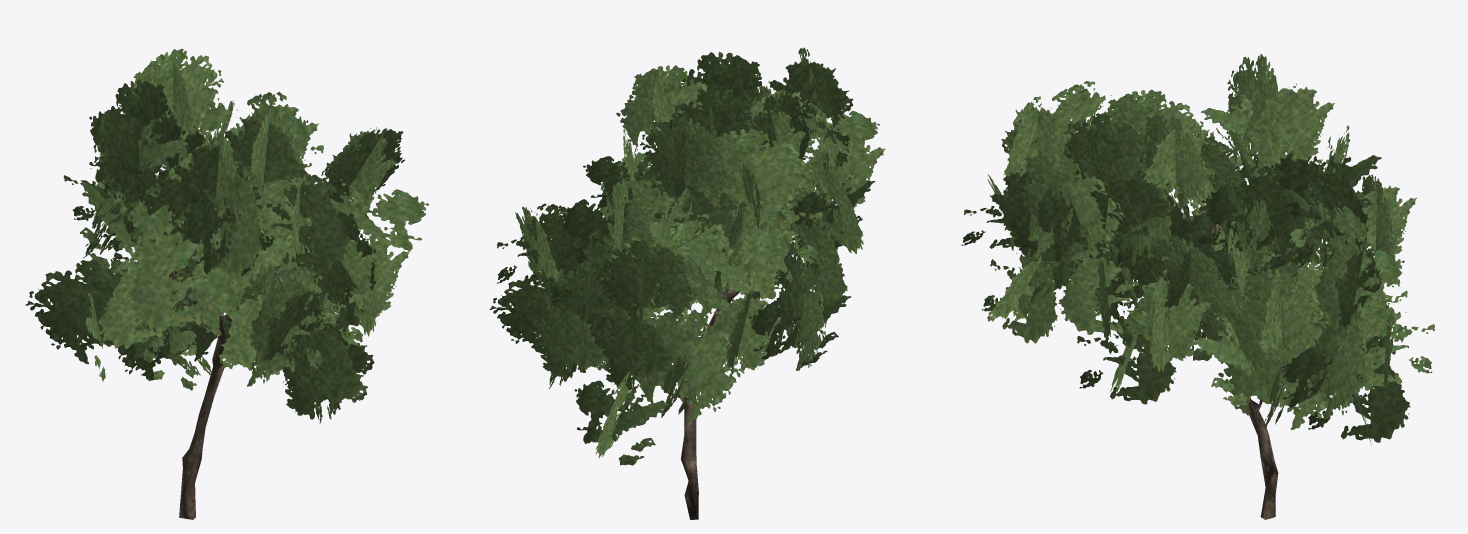
File: tree-small-02-far-mobile.glb
3 renders of one model, left to right at view 1: azimuth 30°, elevation 25°; view 2: azimuth 150°, elevation 25°; view 3: azimuth 270°, elevation 25°, orthographic. The views are drawn at different scales.
Parts seen in each view (by area): view 1: tree_small_02_LOD0; view 2: tree_small_02_LOD0; view 3: tree_small_02_LOD0.
Boxes of the visible parts, x1,y1,x2,y2 form: tree_small_02_LOD0: (26, 48, 429, 519); tree_small_02_LOD0: (489, 47, 885, 519); tree_small_02_LOD0: (961, 54, 1434, 519).
Bounding box in the file's own units: 4.2 × 5.21 × 5.43.
Materials: 3 (3 with a texture image).
